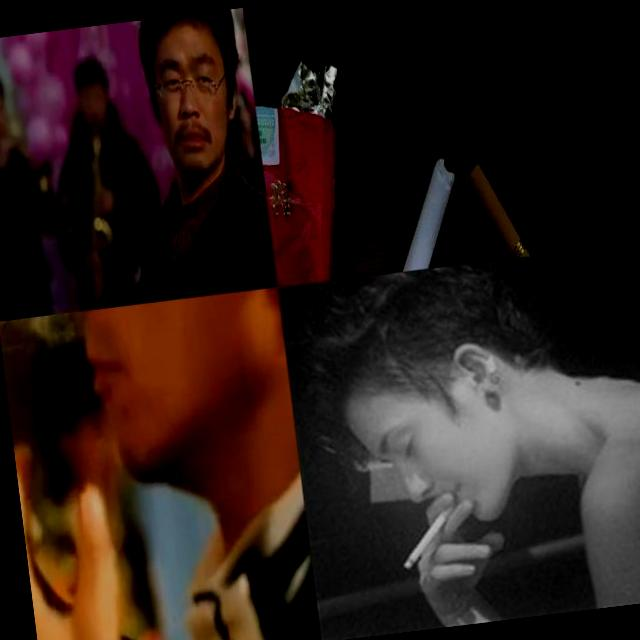smoke: (308, 155, 466, 280), (462, 146, 613, 261), (392, 494, 473, 574)
